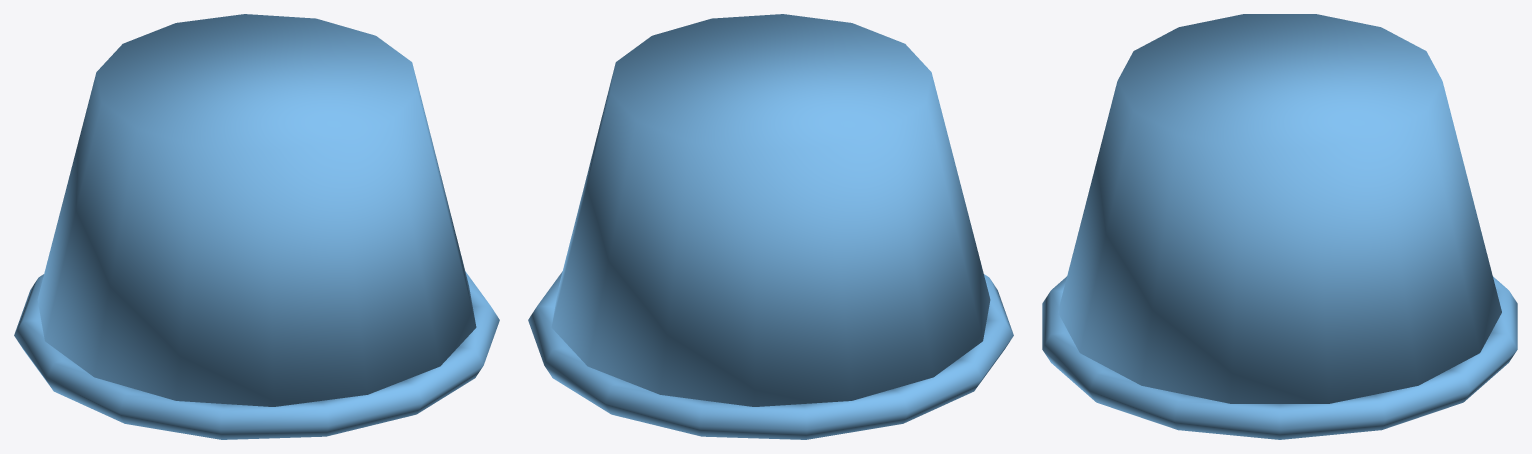
Rendered from hat_bucket.glb.
The picture shows the model from 3 angles, left to right: view 1: azimuth 30°, elevation 25°; view 2: azimuth 150°, elevation 25°; view 3: azimuth 270°, elevation 25°; orthographic projection.
Parts seen in each view (by area): view 1: hat_bucket; view 2: hat_bucket; view 3: hat_bucket.
Part boxes in pixels (left/top/right/bottom): hat_bucket: left=14, top=14, right=499, bottom=439; hat_bucket: left=528, top=14, right=1013, bottom=439; hat_bucket: left=1042, top=14, right=1517, bottom=439.
Bounding box in the file's own units: 0.54 × 0.3173 × 0.5265.
